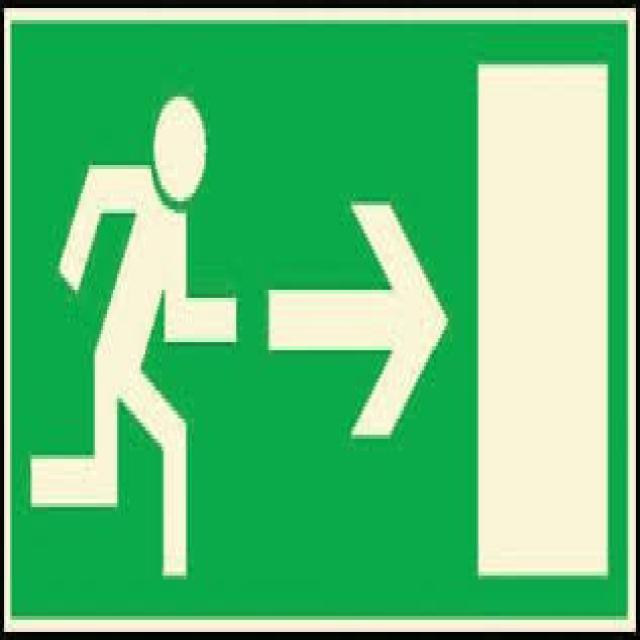exit_sign: (13, 17, 626, 615)
